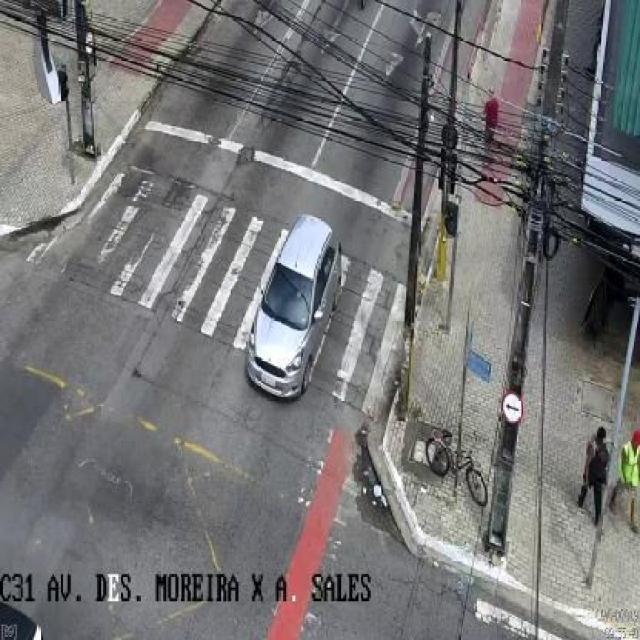Car: (240, 214, 347, 401)
Cycle: (420, 426, 490, 507)
